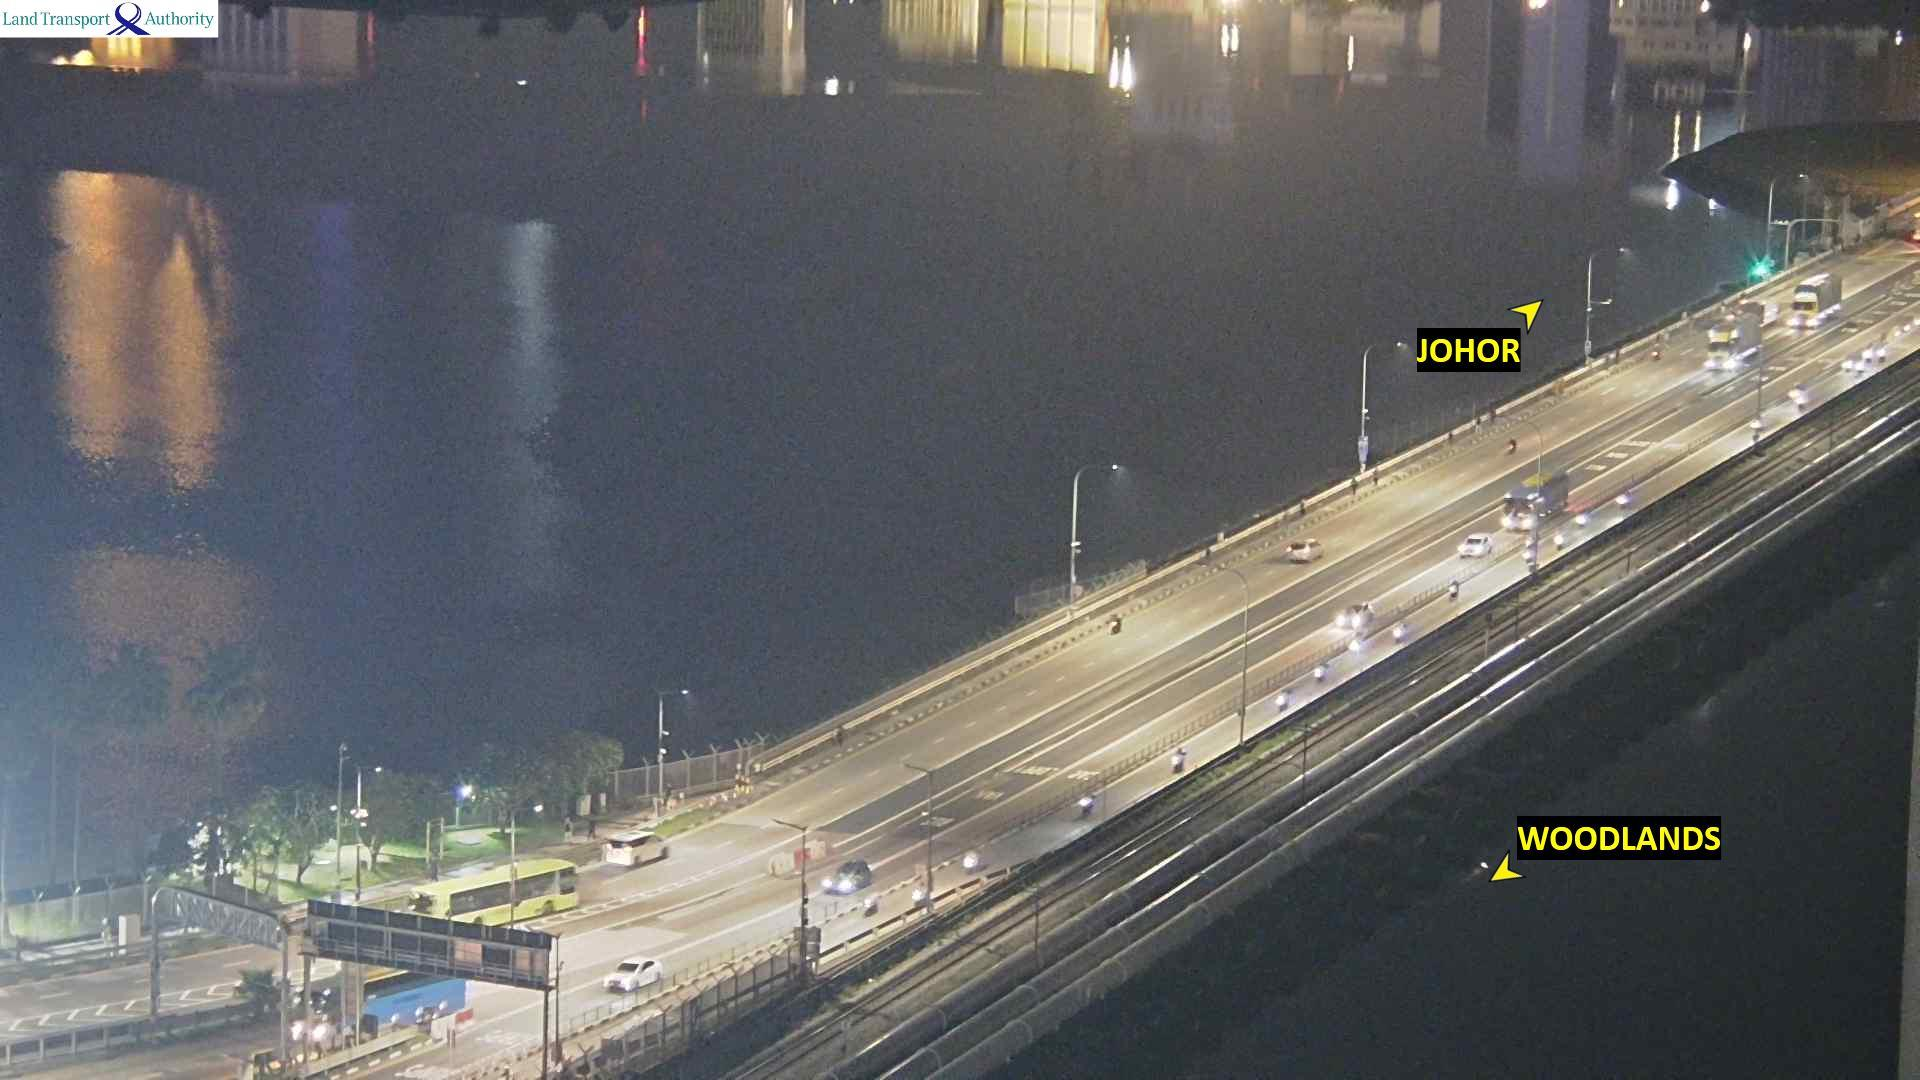vehicle-causeway-johor: (409, 860, 580, 918), (600, 833, 670, 868), (1701, 343, 1758, 372), (1791, 281, 1834, 309), (1704, 336, 1751, 359), (1280, 539, 1320, 563), (1104, 612, 1122, 633), (1506, 439, 1522, 459), (1652, 345, 1662, 359)
vehicle-causeway-singapore: (301, 961, 465, 1036), (1503, 468, 1565, 527), (604, 957, 663, 990), (825, 864, 876, 898), (1336, 603, 1373, 633), (1460, 534, 1495, 559), (964, 847, 984, 868), (1274, 688, 1292, 708), (910, 877, 924, 902), (1571, 509, 1588, 530), (1443, 579, 1460, 599), (1787, 382, 1801, 404), (1174, 749, 1187, 769), (1346, 640, 1365, 653), (1081, 794, 1095, 810), (1395, 621, 1407, 638), (1854, 363, 1865, 378), (1317, 659, 1327, 676), (1556, 534, 1564, 554), (1618, 492, 1627, 508), (1879, 347, 1888, 363), (1841, 359, 1851, 372), (1865, 344, 1873, 360)
